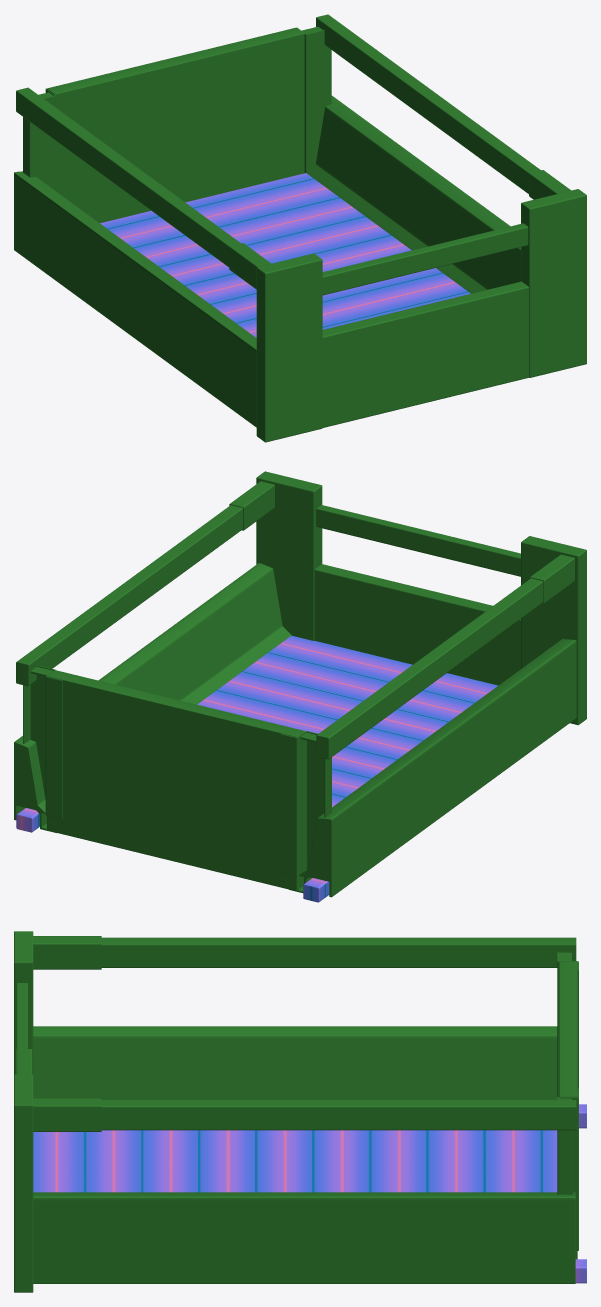
Rendered from SM_Kitchen_02_Drawer_02.fbx.
3 views of the same model, one above another, from view 1: azimuth 30°, elevation 25°; view 2: azimuth 150°, elevation 25°; view 3: azimuth 270°, elevation 25° (orthographic). The views are drawn at different scales.
Visible parts, largest first — view 1: SM_Kitchen_02_Drawer_02; view 2: SM_Kitchen_02_Drawer_02; view 3: SM_Kitchen_02_Drawer_02.
Boxes of the visible parts, left/top/right/bottom form: SM_Kitchen_02_Drawer_02: left=14, top=14, right=586, bottom=442; SM_Kitchen_02_Drawer_02: left=14, top=471, right=586, bottom=902; SM_Kitchen_02_Drawer_02: left=14, top=931, right=586, bottom=1292.
Size of the model in its own units: 36.2 by 18.2 by 50.29.
Materials: 3 (2 with a texture image).
